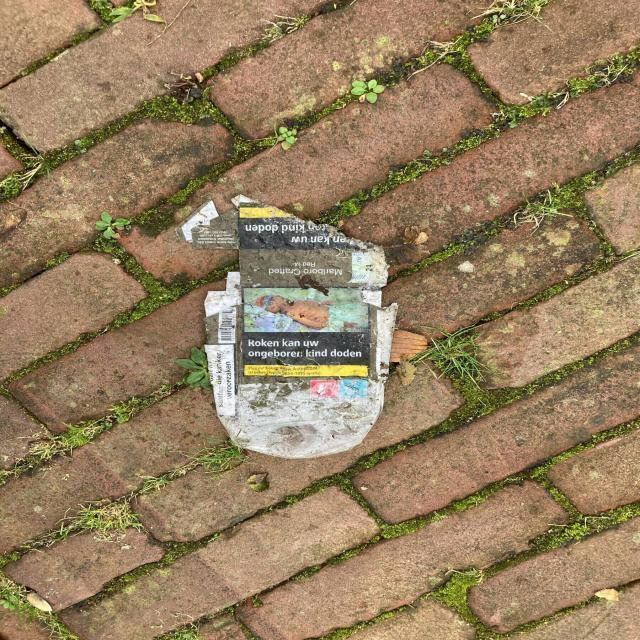Paper: (172, 190, 402, 462)
